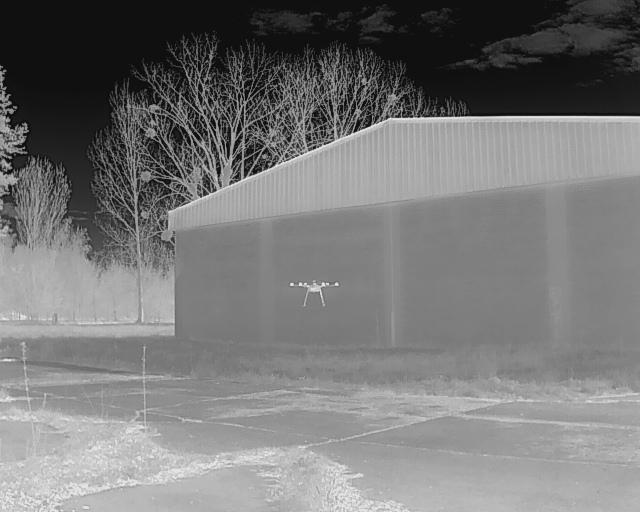drone: (285, 270, 346, 314)
